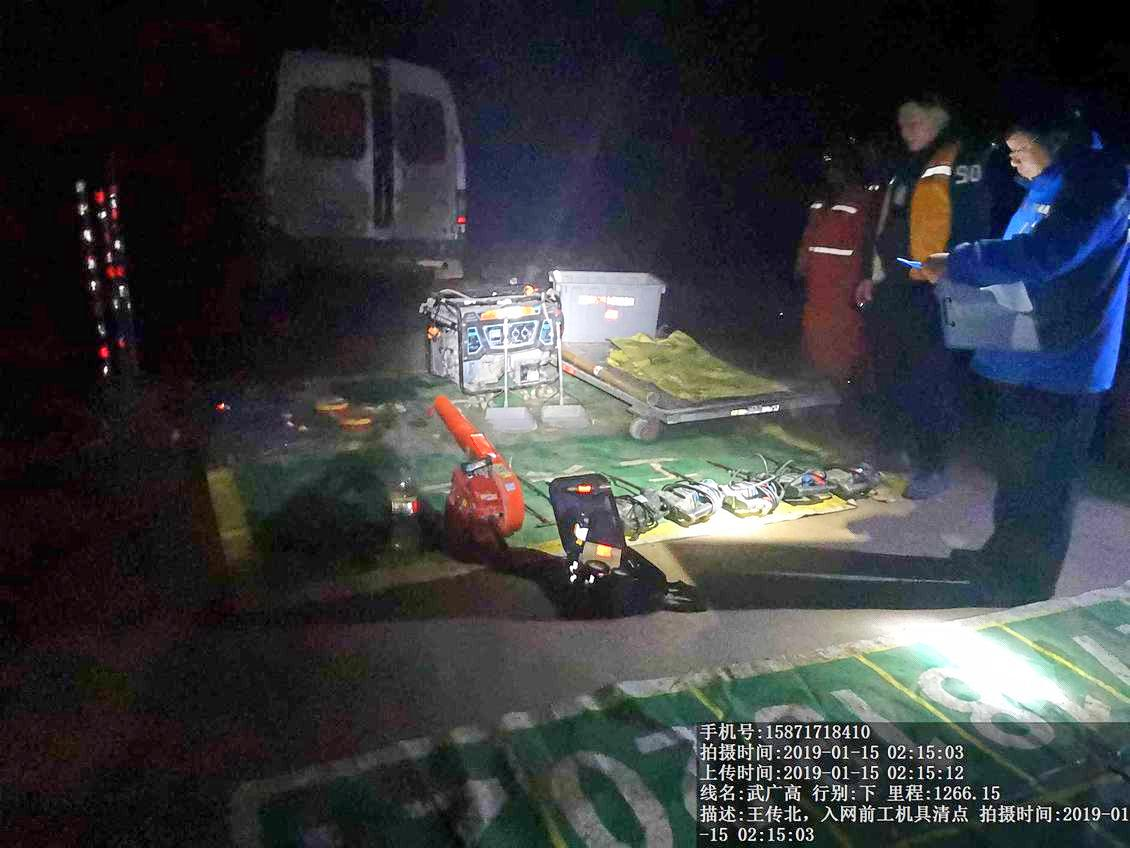BZD: (605, 330, 789, 397)
DJ: (412, 284, 565, 391)
GFJ: (430, 395, 530, 540)
GJB: (544, 477, 668, 624)
JC: (327, 407, 372, 435)
T: (544, 267, 665, 334)
